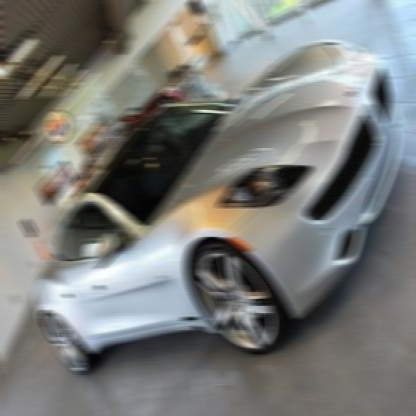Vehicle: (35, 41, 403, 376)
